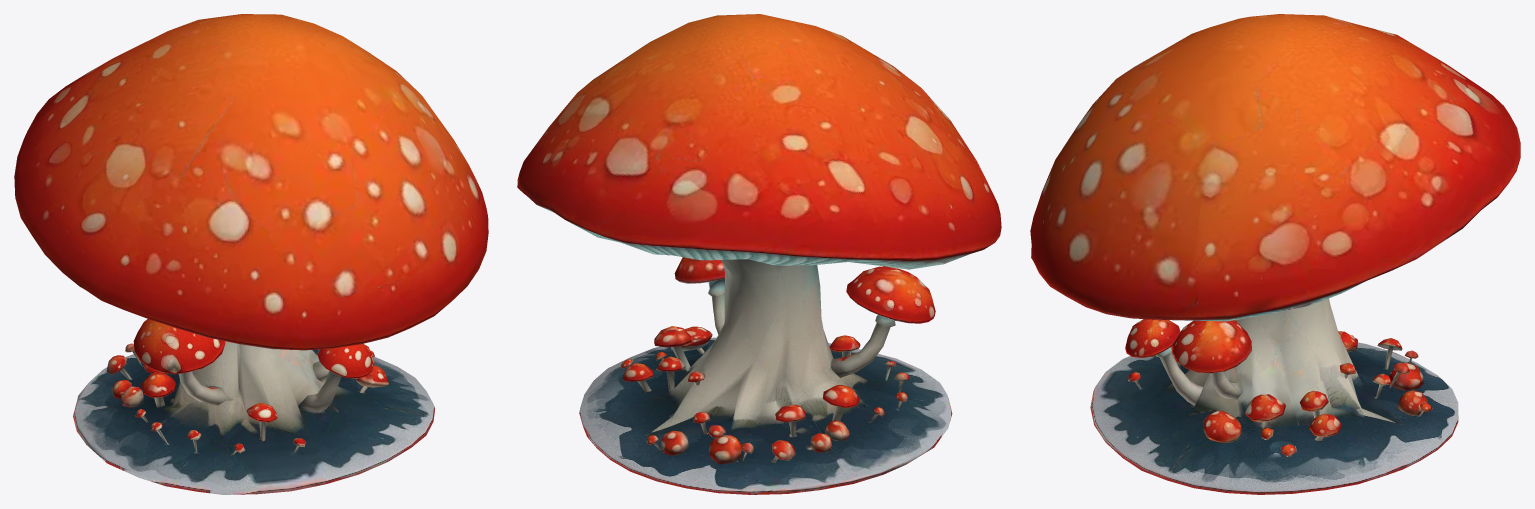
File: giantMushroom.glb
The picture shows the model from 3 angles, left to right: view 1: azimuth 30°, elevation 25°; view 2: azimuth 150°, elevation 25°; view 3: azimuth 270°, elevation 25°; orthographic projection. The views are drawn at different scales.
Bounding box in the file's own units: 0.9609 × 0.8428 × 0.9526.
Materials: 1 (1 with a texture image).
